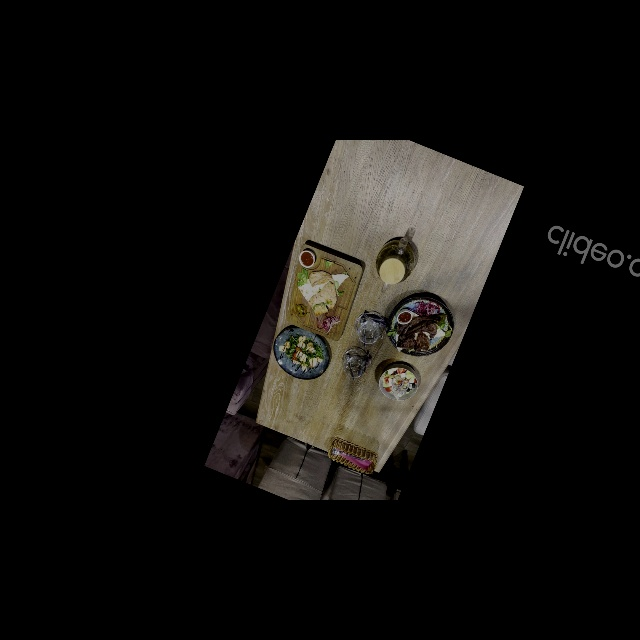графин с чаем: (366, 231, 423, 300)
закуска: (273, 241, 370, 343)
мясное блюдо: (379, 286, 462, 367)
салат: (265, 320, 337, 387)
салат цезарь: (374, 357, 425, 407)
